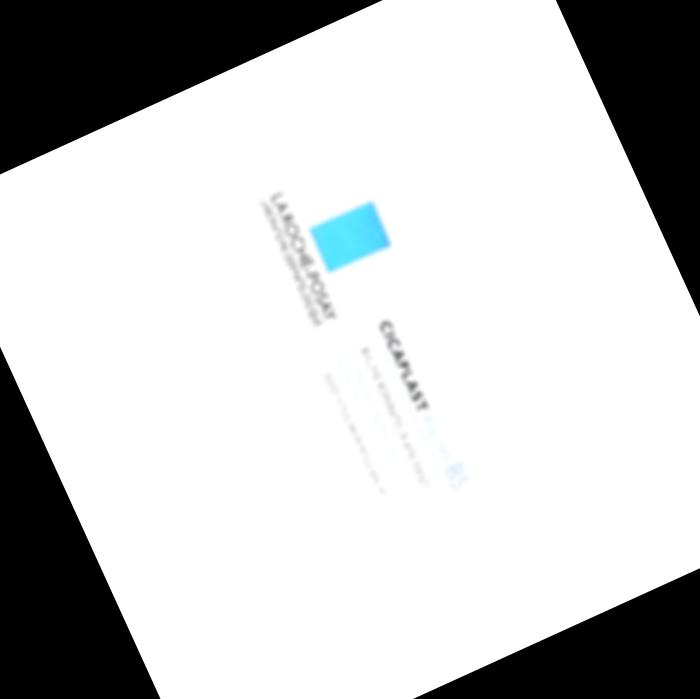cosmetic: (152, 71, 595, 666)
